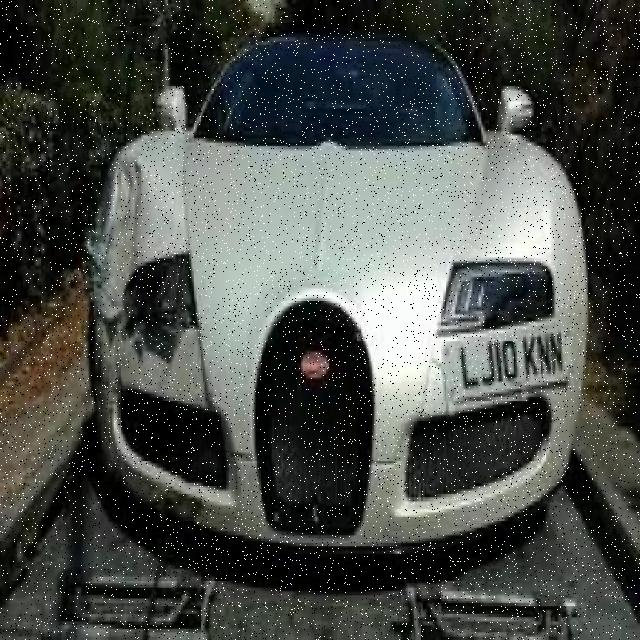damage: (86, 150, 214, 524)
